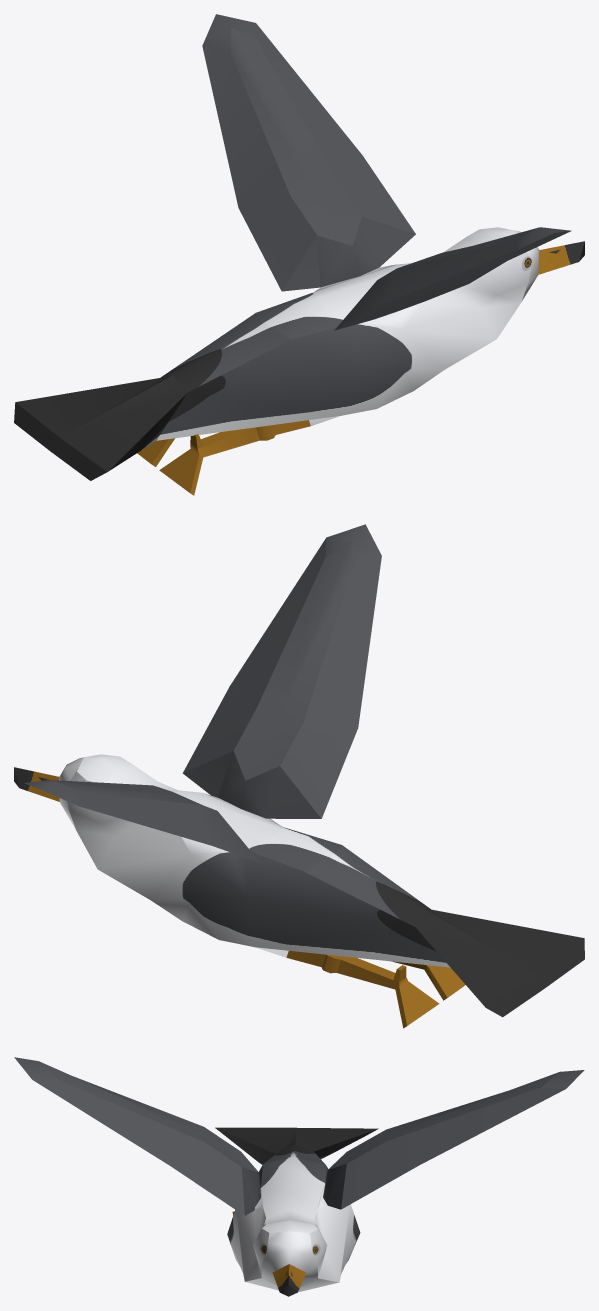
File: Flying gull.glb
3 views of the same model, one above another, from view 1: azimuth 30°, elevation 25°; view 2: azimuth 150°, elevation 25°; view 3: azimuth 270°, elevation 25° (orthographic). The views are drawn at different scales.
Parts seen in each view (by area): view 1: Flying_seagull; view 2: Flying_seagull; view 3: Flying_seagull.
Part boxes in pixels (x1,y1,x2,y2): Flying_seagull: [14, 14, 584, 495]; Flying_seagull: [14, 524, 584, 1028]; Flying_seagull: [14, 1057, 584, 1296].
Size of the model in its own units: 82.16 by 44.24 by 88.47.
1 material, 1 textured.
